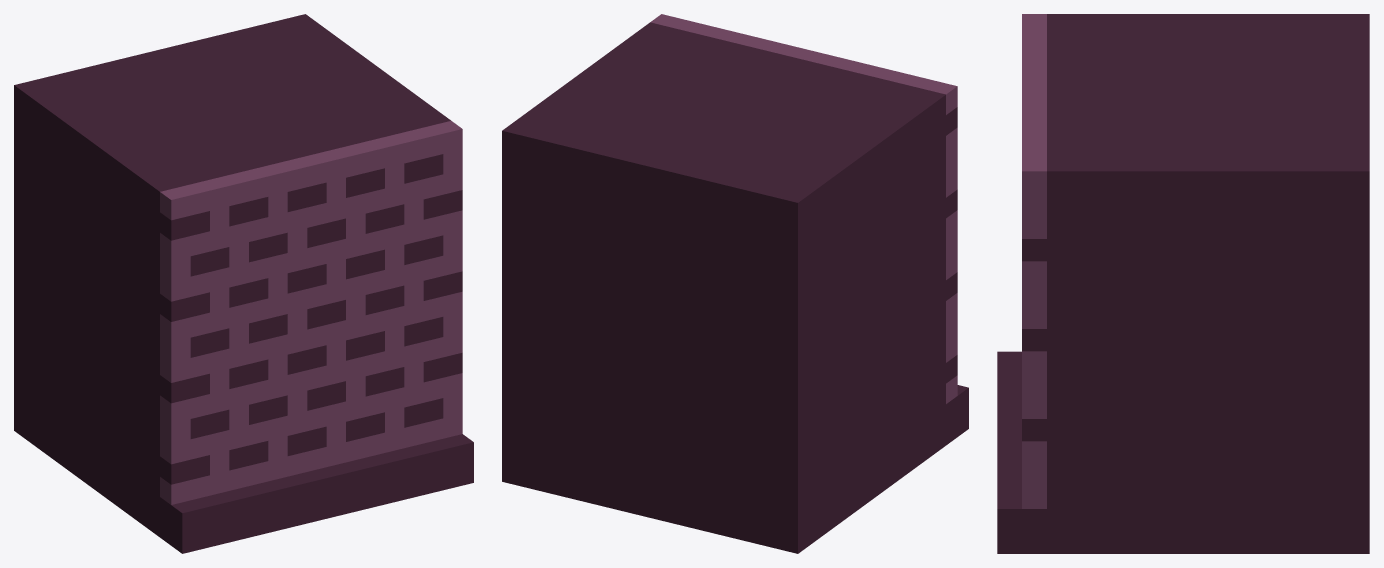
File: dungeon_c_b_outer_wall_segment_a_flipped.obj
3 views of the same model, side by side, from view 1: azimuth 30°, elevation 25°; view 2: azimuth 150°, elevation 25°; view 3: azimuth 270°, elevation 25° (orthographic). The views are drawn at different scales.
Size of the model in its own units: 1.5 by 1.7 by 1.5.
1 material, 1 textured.
